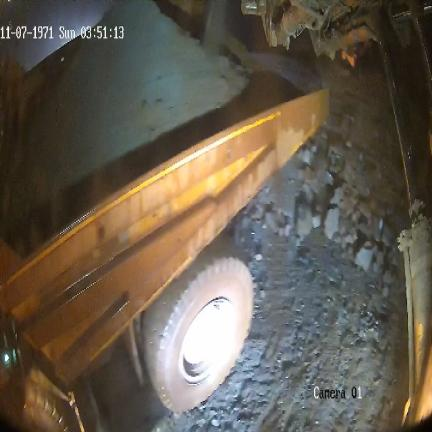pile: (14, 0, 252, 202), (229, 72, 409, 311)
